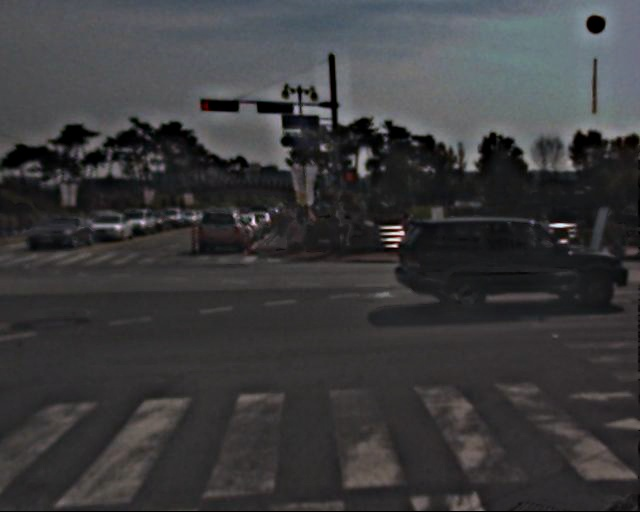person: (271, 210, 315, 252), (522, 214, 543, 264), (540, 214, 559, 260), (328, 215, 346, 259)
